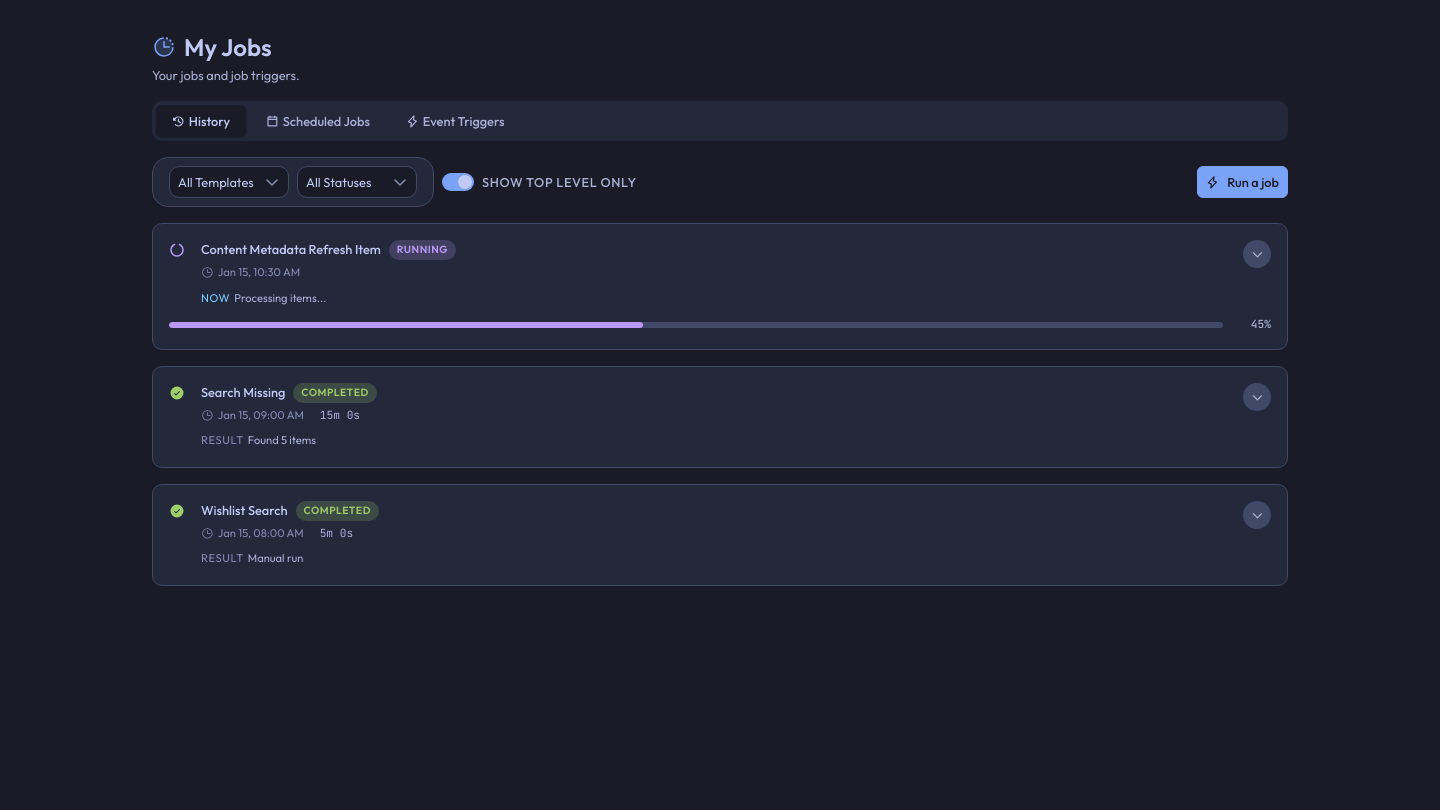
Scenario: MyJobsPage manual trigger › limits the manual run picker to jobs the manager can run under scope rules
Click the button "Run a job". click: [1243, 182]
box: [1197,166,1288,198]
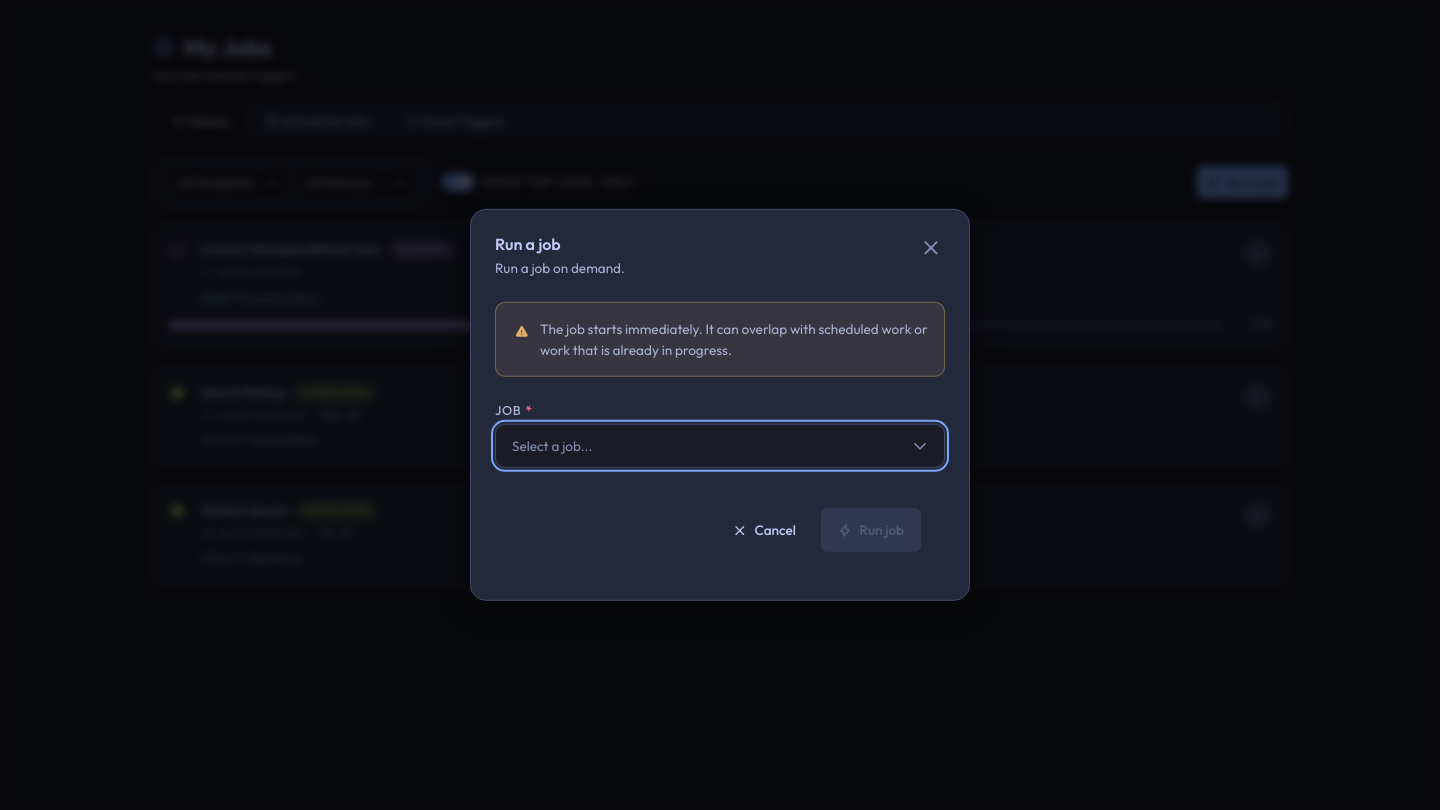
Click the dropdown labelled "Select a job...". click: [552, 446]
box: [495,424,945,468]
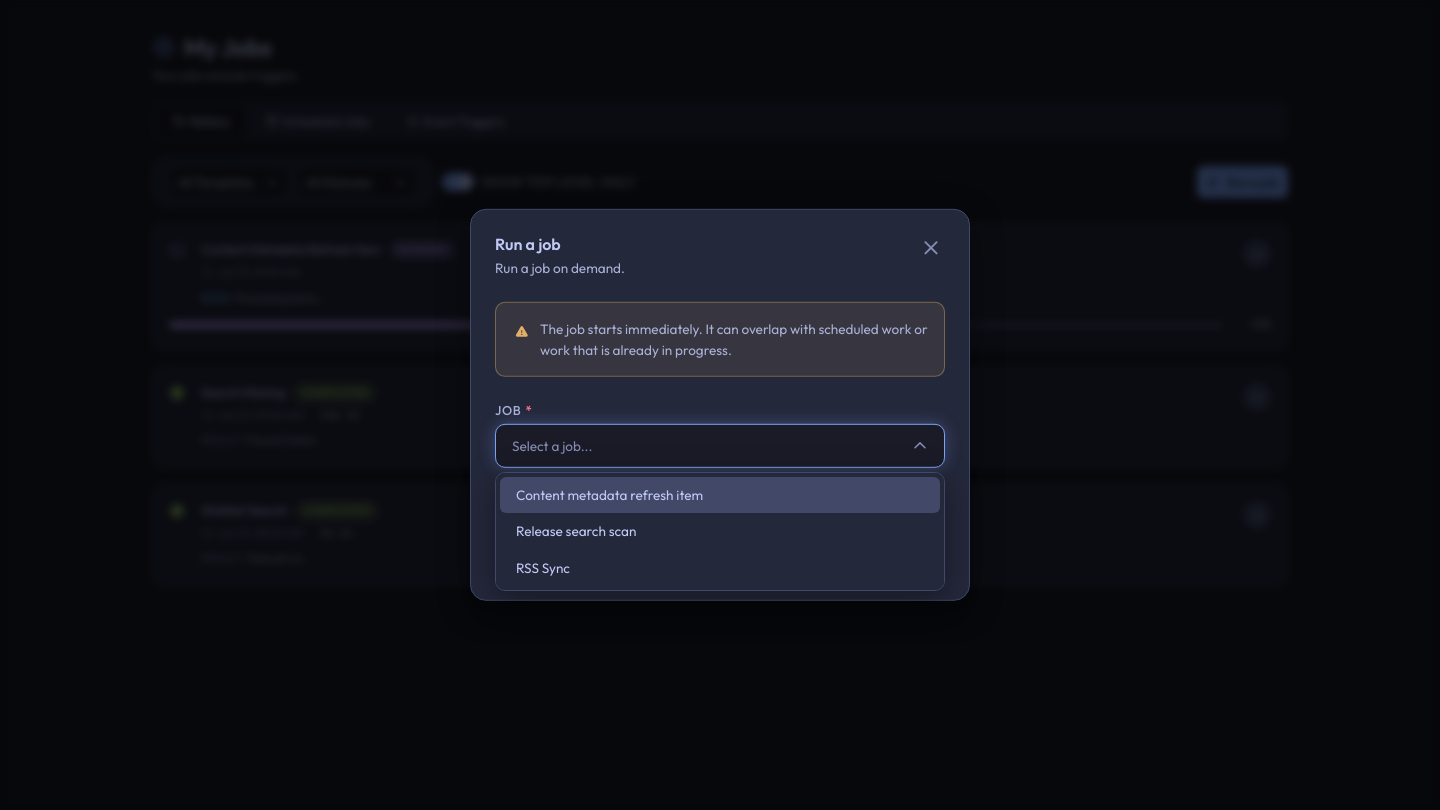
Check: the option "Content metadata refresh item" is shown, box [500,477,940,513]
Check: the option "Release search scan" is shown, box [516,522,636,540]
Check: the option "RSS Sync" is shown, box [516,559,570,577]
